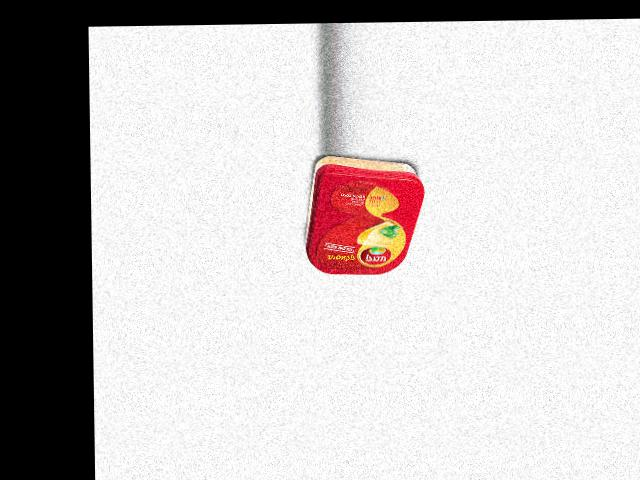cheese: (304, 154, 425, 275)
